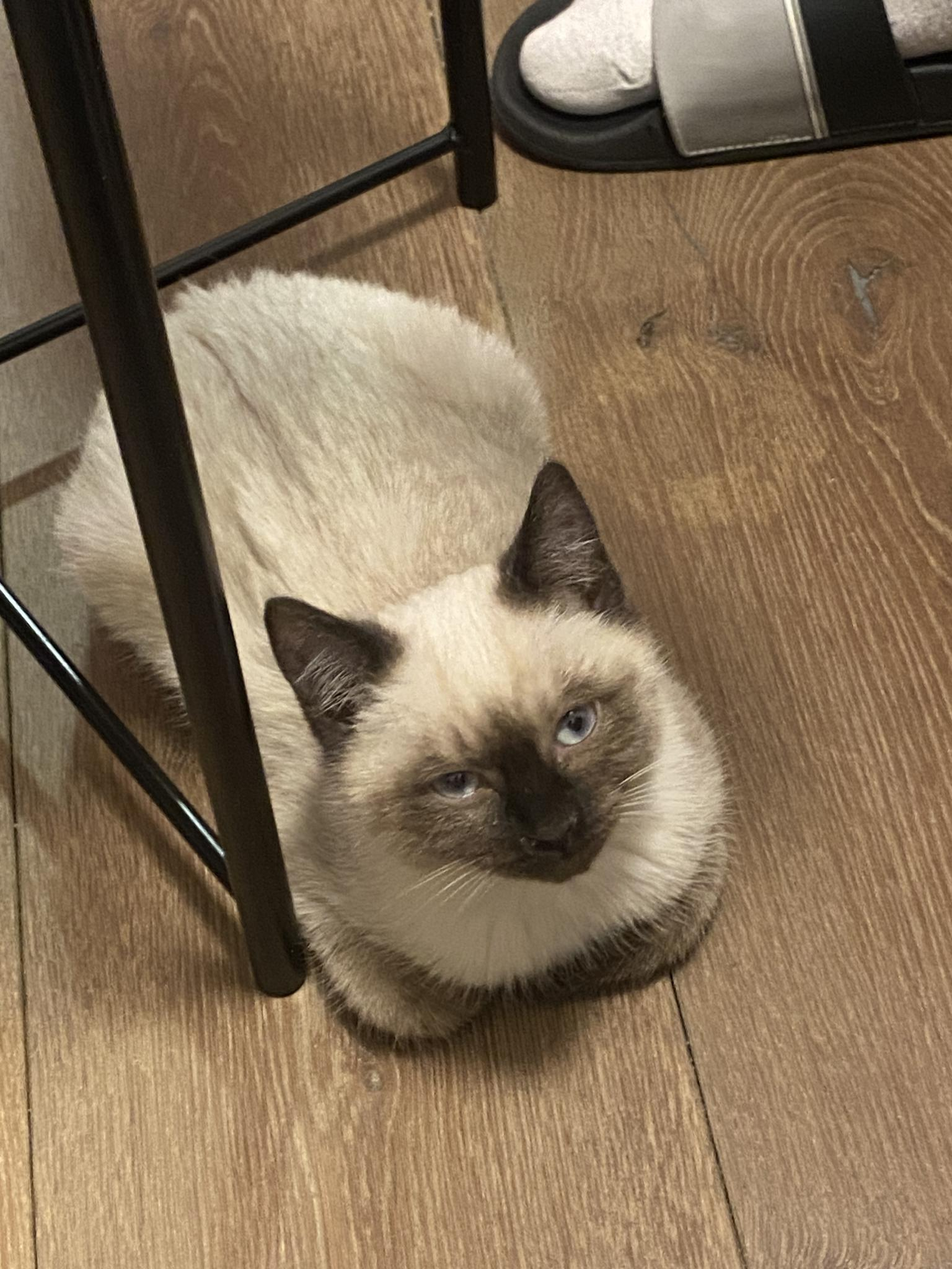macka: (52, 266, 732, 1053)
